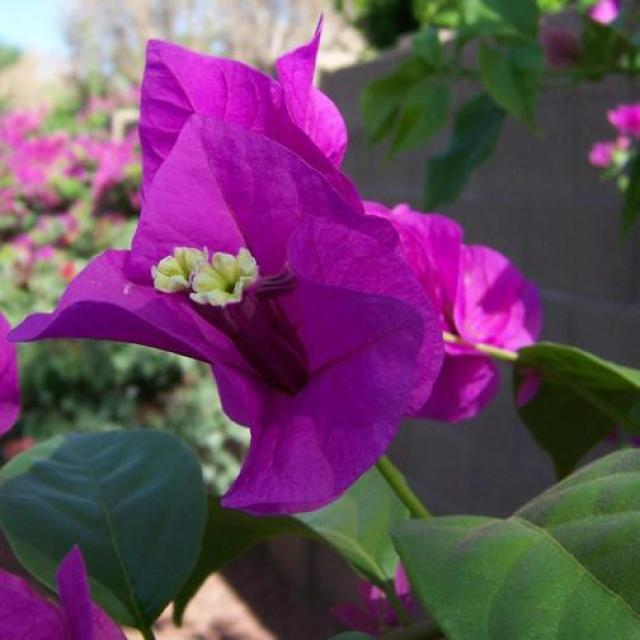bougainvillea: (42, 9, 606, 540)
